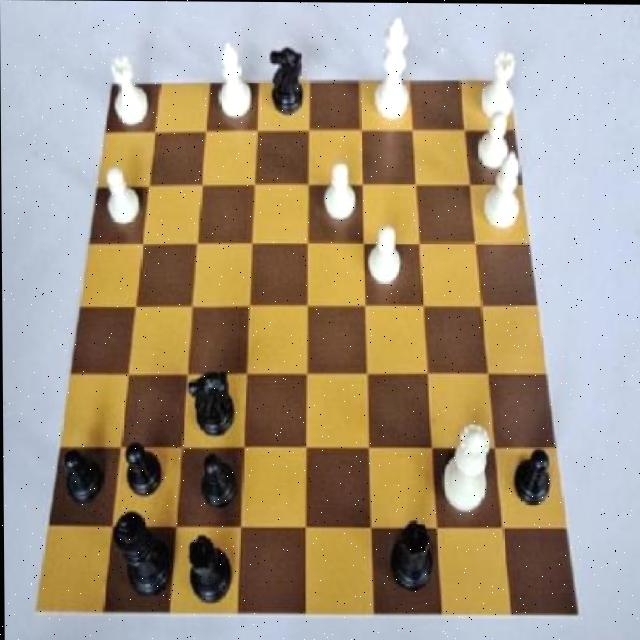black-bishop: (110, 502, 172, 603)
black-king: (185, 357, 238, 441), (263, 40, 306, 123)
black-knight: (507, 442, 561, 519), (58, 448, 106, 520), (123, 441, 169, 509), (196, 451, 241, 517)
black-queen: (382, 519, 439, 604), (183, 529, 235, 615)
black-rook: (481, 146, 526, 238), (214, 38, 254, 124)
white-bishop: (371, 10, 415, 123)
white-knight: (366, 218, 407, 294), (319, 160, 359, 231), (104, 167, 140, 238)
white-pawn: (435, 418, 493, 525)
white-queen: (106, 48, 151, 131), (479, 43, 518, 123)
